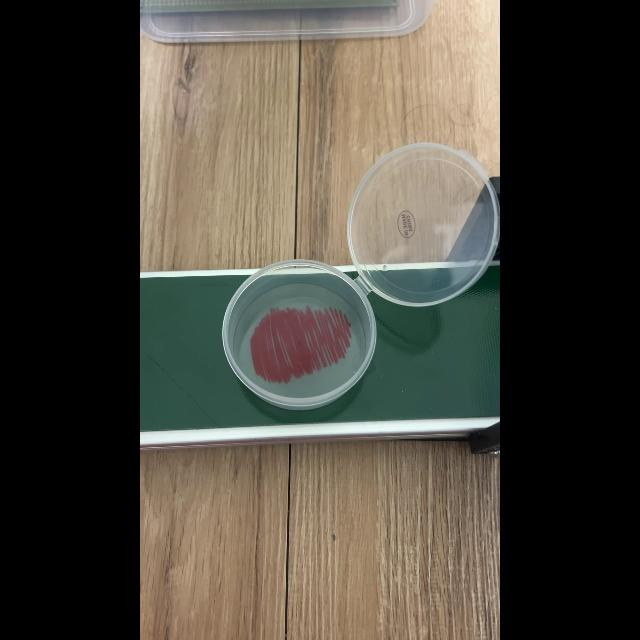dirty: (237, 273, 366, 399)
